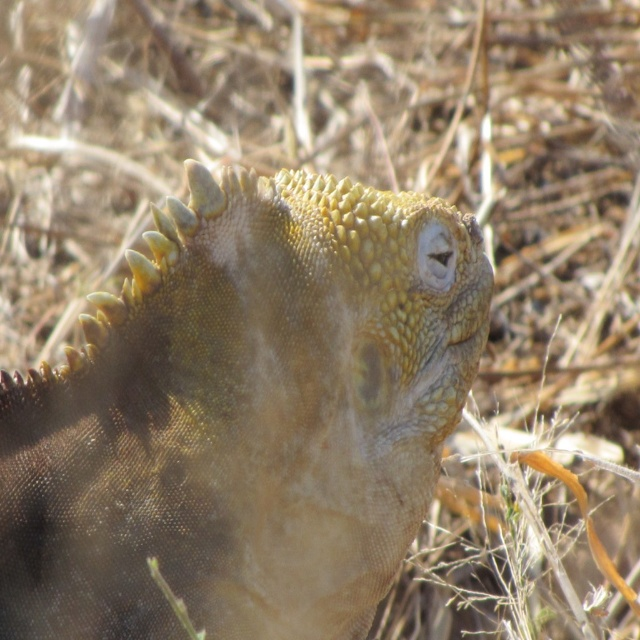Lizard: (21, 128, 492, 621)
